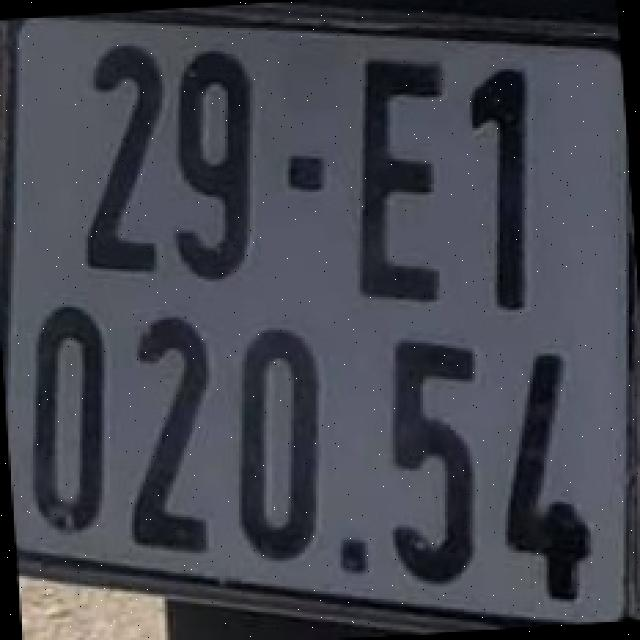0: (230, 317, 330, 568), (26, 298, 111, 542)
1: (466, 58, 545, 316)
2: (128, 311, 218, 557), (78, 37, 166, 283)
4: (499, 348, 600, 604)
5: (383, 334, 482, 588)
9: (169, 47, 262, 280)
E: (352, 51, 451, 307)
